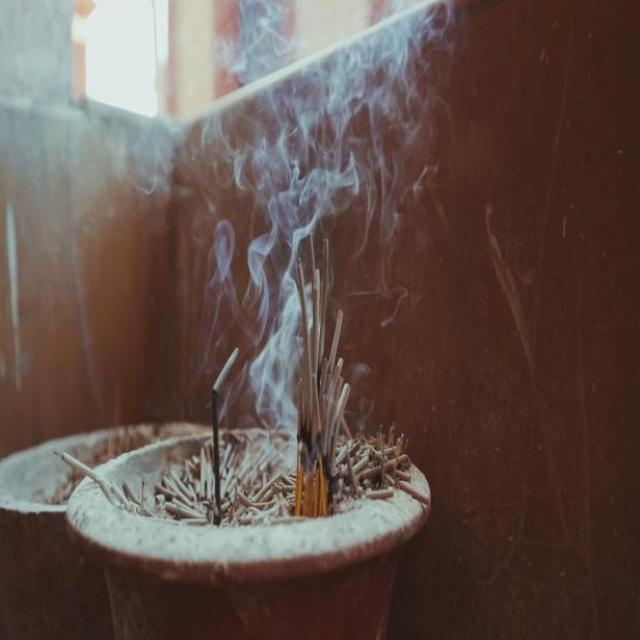fire: (193, 0, 454, 449)
